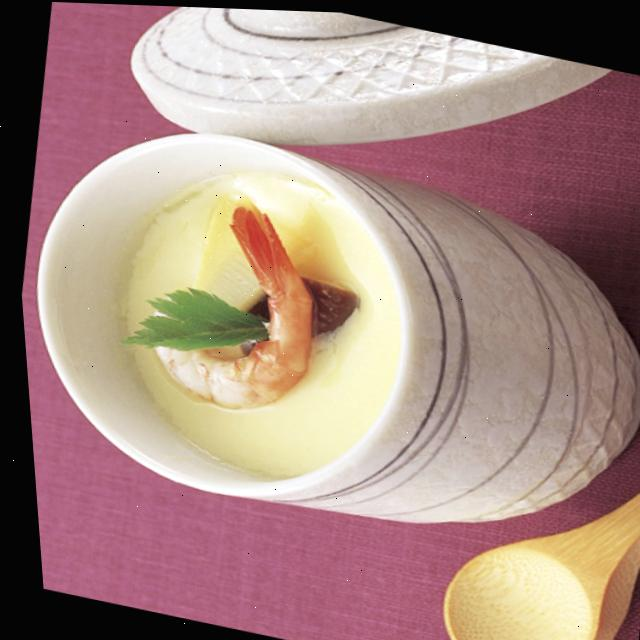鸡蛋料理: (5, 90, 640, 567)
